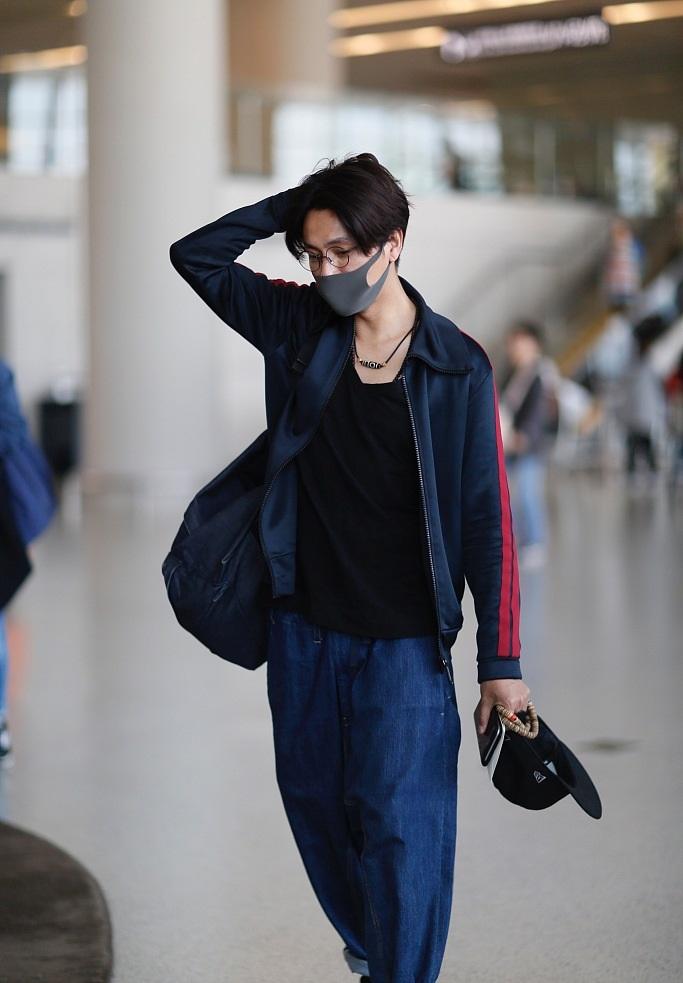face_mask: (304, 206, 375, 314)
